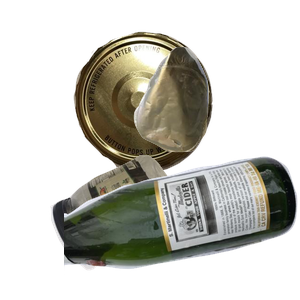glass: (64, 154, 300, 300)
metal: (71, 29, 276, 193)
plastic: (48, 152, 228, 300)
trash: (131, 44, 300, 189)
